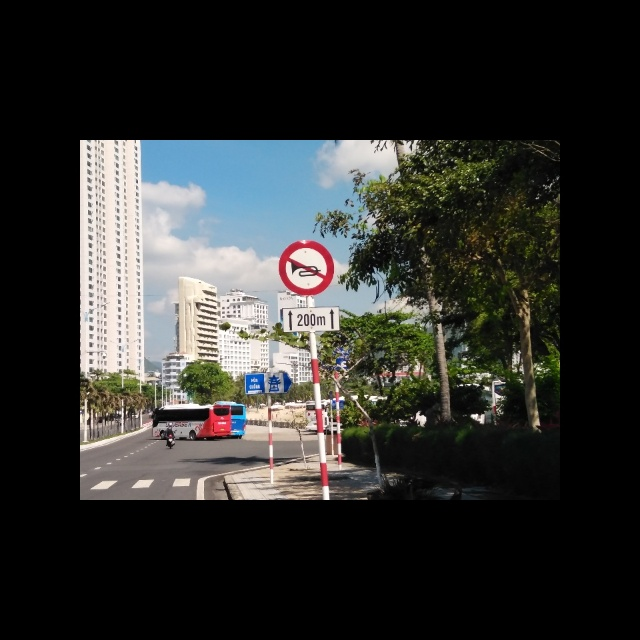Cấm bấm còi: (278, 240, 335, 296)
